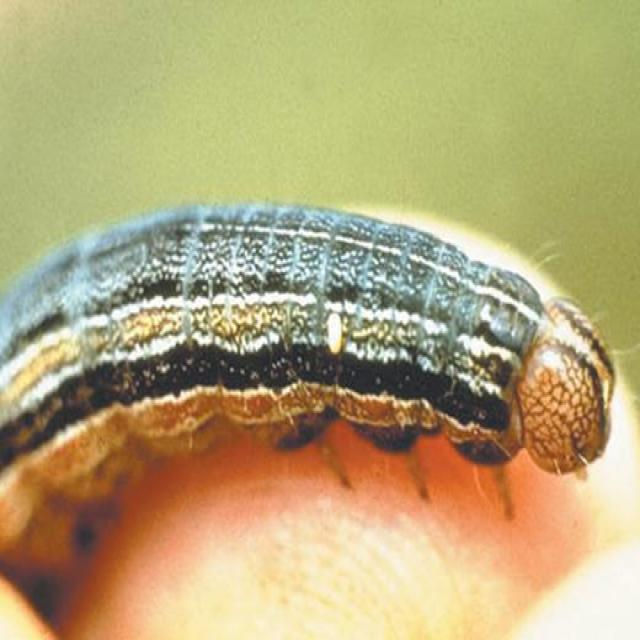armyworm: (11, 198, 630, 591)
